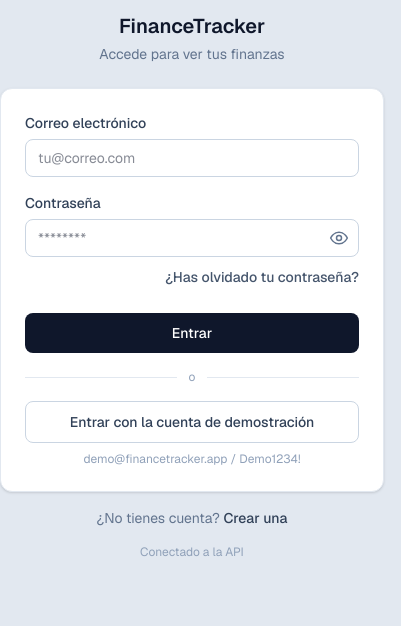
it: LoginPage › shows the API error for wrong credentials and stays on the form
This screenshot has width=401, height=626.
Type "ana@test.com" into the field labelled "Correo electrónico" at (192, 158), box 25,139 -> 359,177
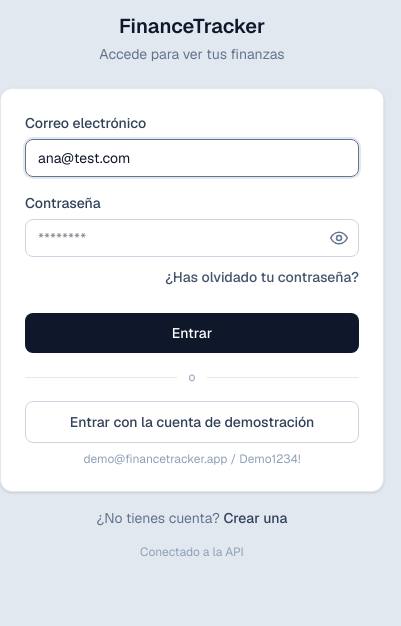
Type "una-clave-larga" into the password field labelled "Contraseña" at (192, 238), box 25,219 -> 359,257
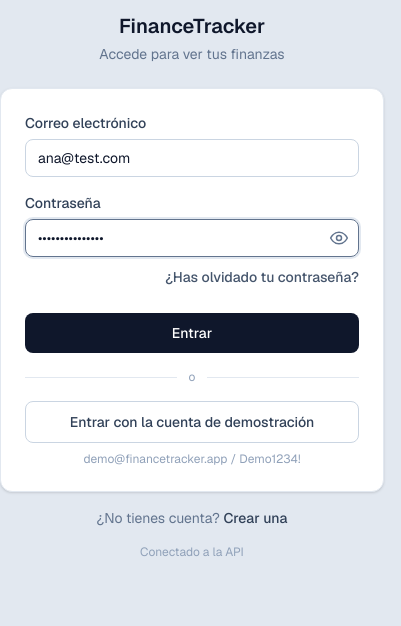
Click the button "Entrar" at (192, 333), box 25,313 -> 359,353
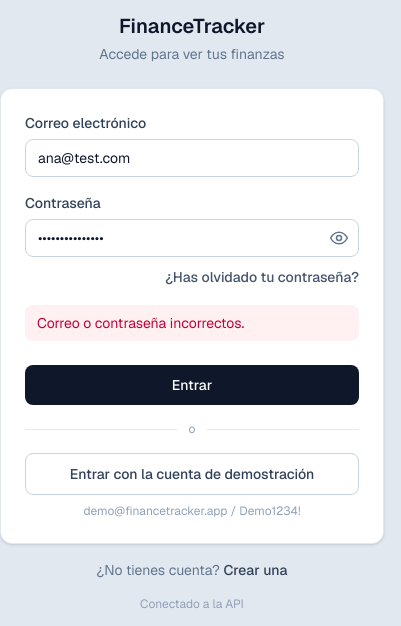
expect the message reads "Correo o contraseña incorrectos.": met, box 37,314 -> 244,332
